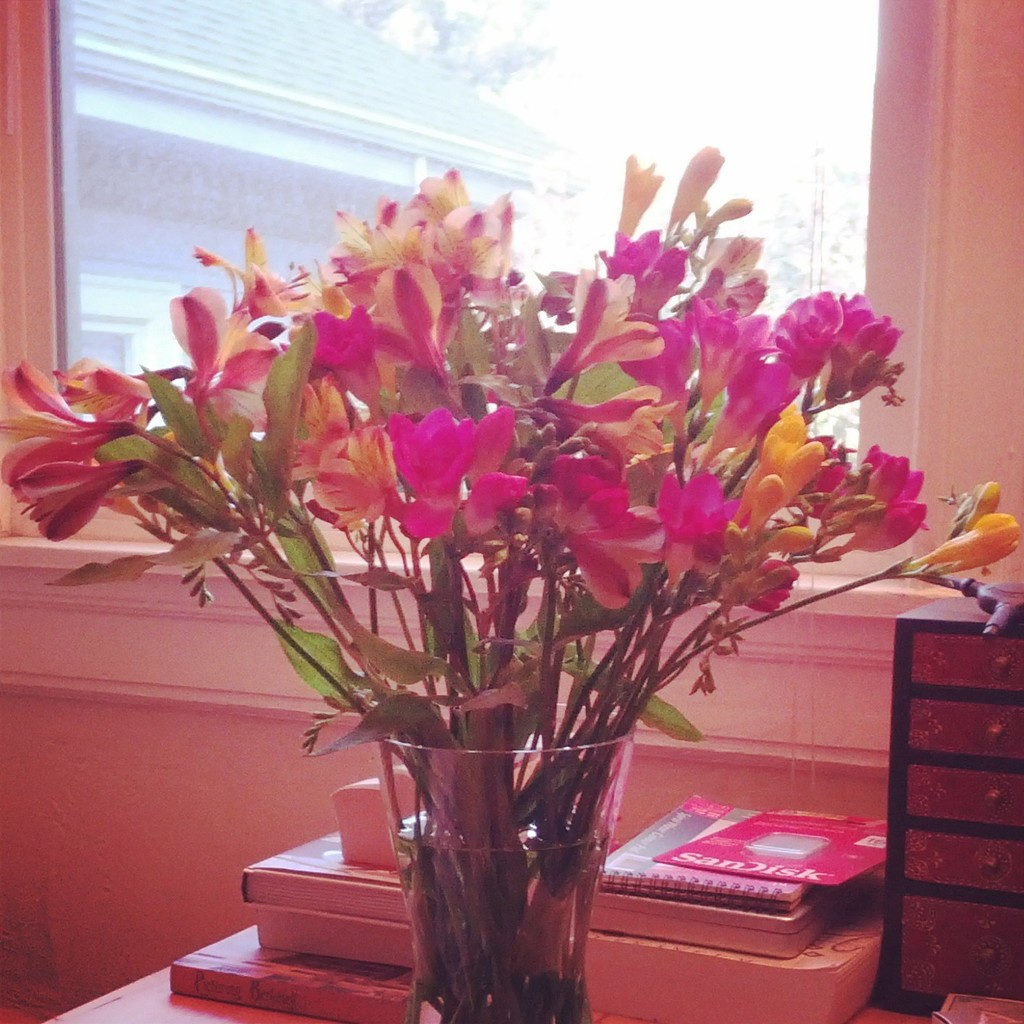Tree: (332, 0, 573, 88)
